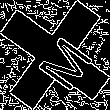M_NW: (21, 21, 89, 89)
